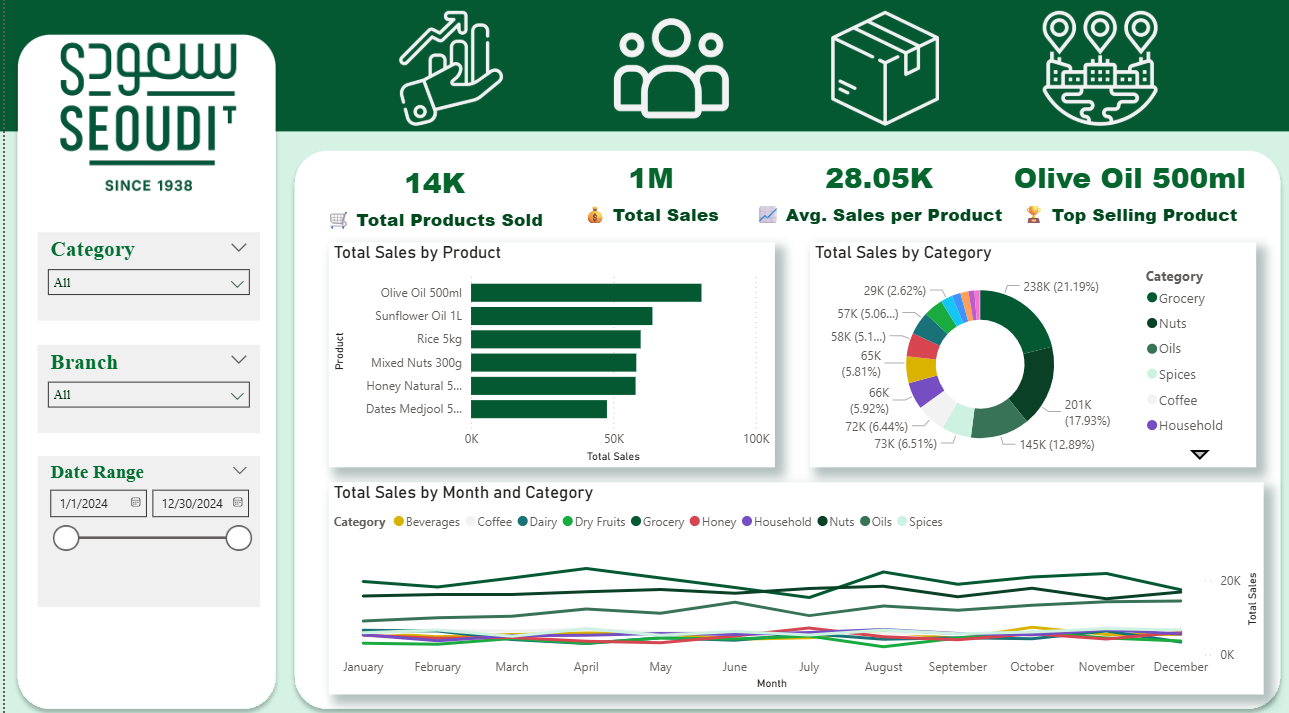

What the dashboard file says about the page in this screenshot:
{"tool":"powerbi","page":{"name":"Product Performance","canvas":[1280,720],"ordinal":3},"visuals":[{"type":"image","box":[385.6,10,126.9,124.4],"z":0},{"type":"image","box":[599.2,10,126.9,124.4],"z":1000},{"type":"image","box":[812.7,10,126.9,124.4],"z":2000},{"type":"image","box":[1026.3,10,126.9,124.4],"z":3000},{"type":"image","box":[32.3,2.5,251.3,250],"z":4000},{"type":"card","fields":{"Values":["Sum(Orders.Quantity)"]},"box":[311,151.8,233.9,93.3],"z":5000},{"type":"card","fields":{"Values":["Sum(Orders.Sales)"]},"box":[530.8,151.8,223.9,83.3],"z":6000},{"type":"card","fields":{"Values":["Products.Avg. Sales per Product"]},"box":[740.6,151.8,260,83.3],"z":7000},{"type":"card","fields":{"Values":["Products.Top Selling Product"]},"box":[986.5,151.8,266.2,83.3],"z":8000},{"type":"barChart","fields":{"Y":["Products.Total Sales"],"Category":["Products.Product"]},"box":[322.2,245.1,444.1,223.9],"z":9000},{"type":"donutChart","fields":{"Category":["Products.Category"],"Y":["Products.Total Sales"]},"box":[835.9,247.5,444.1,223.9],"z":10000},{"type":"lineChart","fields":{"Category":["Orders.OrderDate.Variation.Date Hierarchy.Month"],"Y2":["Products.Total Sales"],"Series":["Products.Category"]},"box":[322.2,471.5,957.8,223.9],"z":11000},{"type":"slicer","fields":{"Values":["Products.Category"]},"box":[42.3,235.1,241.3,88.3],"z":12000},{"type":"slicer","fields":{"Values":["Orders.Branch"]},"box":[42.3,346.4,241.3,88.3],"z":13000},{"type":"slicer","fields":{"Values":["Orders.OrderDate"]},"box":[42.3,457.8,241.3,150.5],"z":14000}]}

Visuals, with their boxes in screenshot pixels (x1, y1, x2, y2), scaled from the page's 1280x720 canvas onto the 1289x713 screenshot:
image: x1=388 y1=10 x2=516 y2=133
image: x1=603 y1=10 x2=731 y2=133
image: x1=818 y1=10 x2=946 y2=133
image: x1=1034 y1=10 x2=1161 y2=133
image: x1=33 y1=2 x2=286 y2=250
card - Sum(Orders.Quantity): x1=313 y1=150 x2=549 y2=243
card - Sum(Orders.Sales): x1=535 y1=150 x2=760 y2=233
card - Products.Avg. Sales per Product: x1=746 y1=150 x2=1008 y2=233
card - Products.Top Selling Product: x1=993 y1=150 x2=1262 y2=233
barChart - Products.Total Sales x Products.Product: x1=324 y1=243 x2=772 y2=464
donutChart - Products.Category x Products.Total Sales: x1=842 y1=245 x2=1288 y2=467
lineChart - Orders.OrderDate.Variation.Date Hierarchy.Month x Products.Total Sales: x1=324 y1=467 x2=1288 y2=689
slicer - Products.Category: x1=43 y1=233 x2=286 y2=320
slicer - Orders.Branch: x1=43 y1=343 x2=286 y2=430
slicer - Orders.OrderDate: x1=43 y1=453 x2=286 y2=602
